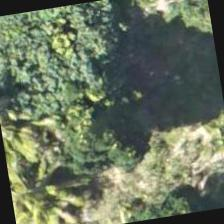Kelapa_Sawit: (8, 159, 93, 223)
